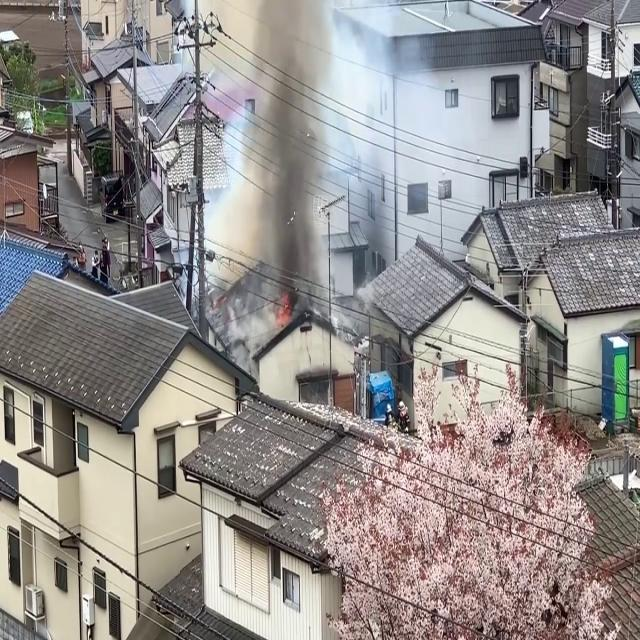Smoke: (215, 2, 338, 346)
